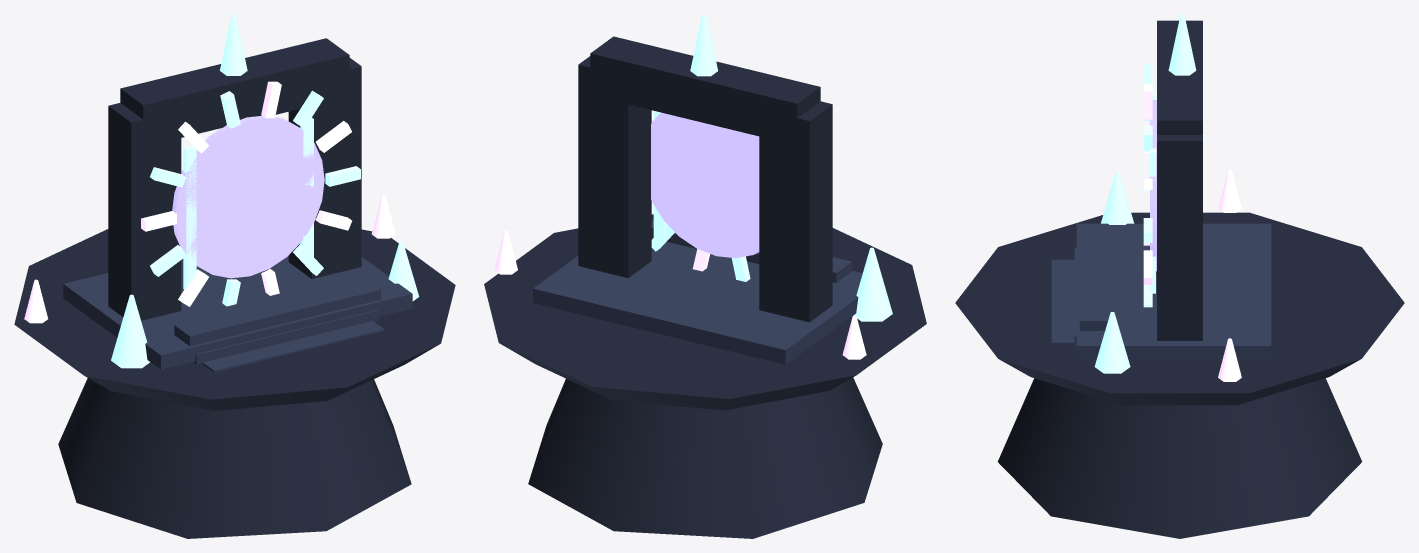
Rendered from AetherPortal_Godot_v1.glb.
3 renders of one model, left to right at view 1: azimuth 30°, elevation 25°; view 2: azimuth 150°, elevation 25°; view 3: azimuth 270°, elevation 25°, orthographic.
Visible parts, largest first — view 1: FloatingIslandDrop, FloatingIslandTop, PortalEnergyCore, PortalPillarLeft, PortalPlatform, PortalKeystone, PortalPillarRight, PortalThreshold, PortalStep01, PortalStep00, CrystalLeft, PortalLightLeft (+11 smaller); view 2: FloatingIslandDrop, FloatingIslandTop, PortalPlatform, PortalPillarLeft, PortalPillarRight, PortalEnergyCore, PortalKeystone, CrystalLeft, CrystalCrown, PortalThreshold, CrystalEdgeLeft, CrystalEdgeRight; view 3: FloatingIslandDrop, FloatingIslandTop, PortalPlatform, PortalPillarRight, PortalKeystone, PortalThreshold, PortalStep01, CrystalRight, CrystalCrown, CrystalLeft, PortalEnergyCore, CrystalEdgeRight (+1 smaller).
Part boxes in pixels (x1,y1,x2,y2): FloatingIslandDrop: (58,378,411,538); FloatingIslandTop: (14,229,455,410); PortalEnergyCore: (172,116,324,278); PortalPillarLeft: (108,103,181,320); PortalPlatform: (63,256,412,369); PortalKeystone: (120,38,349,138); PortalPillarRight: (288,58,361,278); PortalThreshold: (174,278,380,346); PortalStep01: (202,321,384,372); PortalStep00: (193,309,378,364); CrystalLeft: (111,294,149,368); PortalLightLeft: (183,145,196,289); FloatingIslandDrop: (528,377,882,538); FloatingIslandTop: (484,214,926,410); PortalPlatform: (533,238,883,364); PortalPillarLeft: (759,101,832,322); PortalPillarRight: (578,56,651,277); PortalEnergyCore: (651,112,759,258); PortalKeystone: (590,36,820,144); CrystalLeft: (853,247,892,321); CrystalCrown: (690,14,717,76); PortalThreshold: (651,220,851,282); CrystalEdgeLeft: (842,315,866,359); CrystalEdgeRight: (494,230,517,274); FloatingIslandDrop: (997,378,1362,538); FloatingIslandTop: (955,212,1404,405); PortalPlatform: (1076,223,1271,360); PortalPillarRight: (1157,135,1202,340); PortalKeystone: (1157,20,1202,134); PortalThreshold: (1079,228,1110,330); PortalStep01: (1051,259,1074,344); CrystalRight: (1094,312,1130,373); CrystalCrown: (1168,14,1196,75); CrystalLeft: (1101,171,1134,224); PortalEnergyCore: (1150,100,1156,271); CrystalEdgeRight: (1218,338,1241,381).
Size of the model in its own units: 8.56 by 9.88 by 9.
